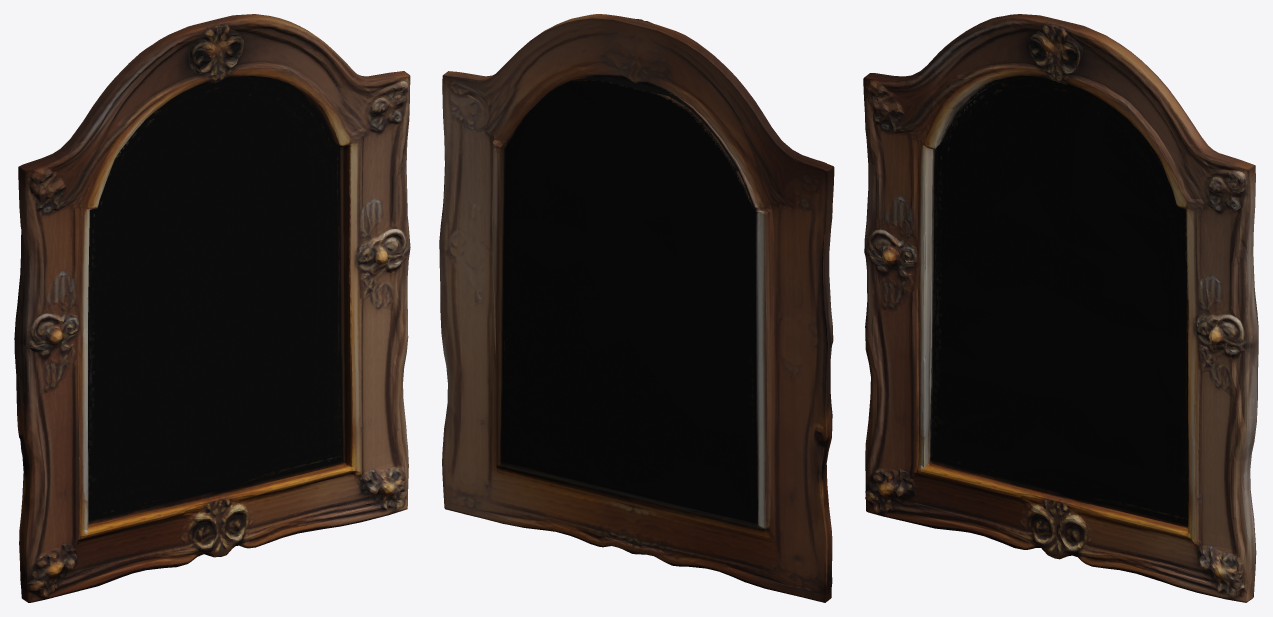
File: wooden-mirror-frame-rustic.jpeg.glb
3 views of the same model, side by side, from view 1: azimuth 30°, elevation 25°; view 2: azimuth 150°, elevation 25°; view 3: azimuth 330°, elevation 25° (orthographic).
Visible parts, largest first — view 1: world; view 2: world; view 3: world.
Boxes of the visible parts, x1,y1,x2,y2 form: world: [14, 14, 410, 602]; world: [439, 14, 834, 602]; world: [863, 14, 1258, 602].
Size of the model in its own units: 0.7653 by 1 by 0.0592.
1 material, 1 textured.
